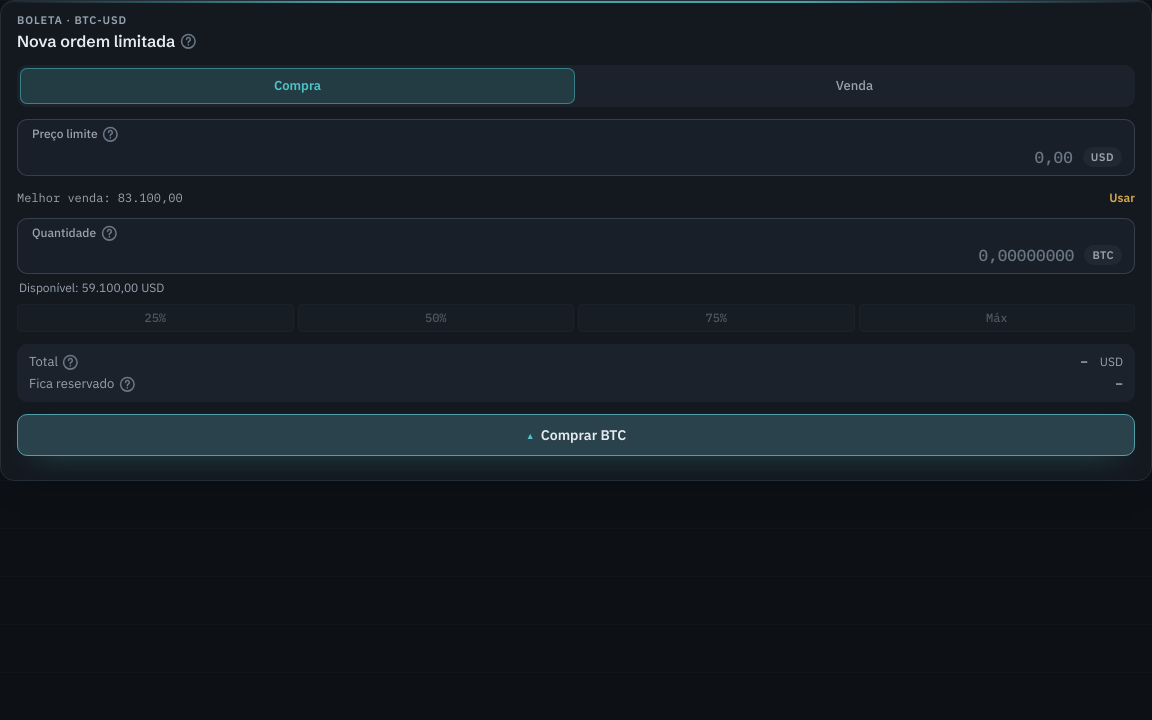
it: Order ticket › Should show the total, what stays reserved and the free balance for the chosen side
Type "83000,00" into the field labelled "Preço limite".
click(552, 157); type("83000,00")  # box [32, 145, 1073, 169]
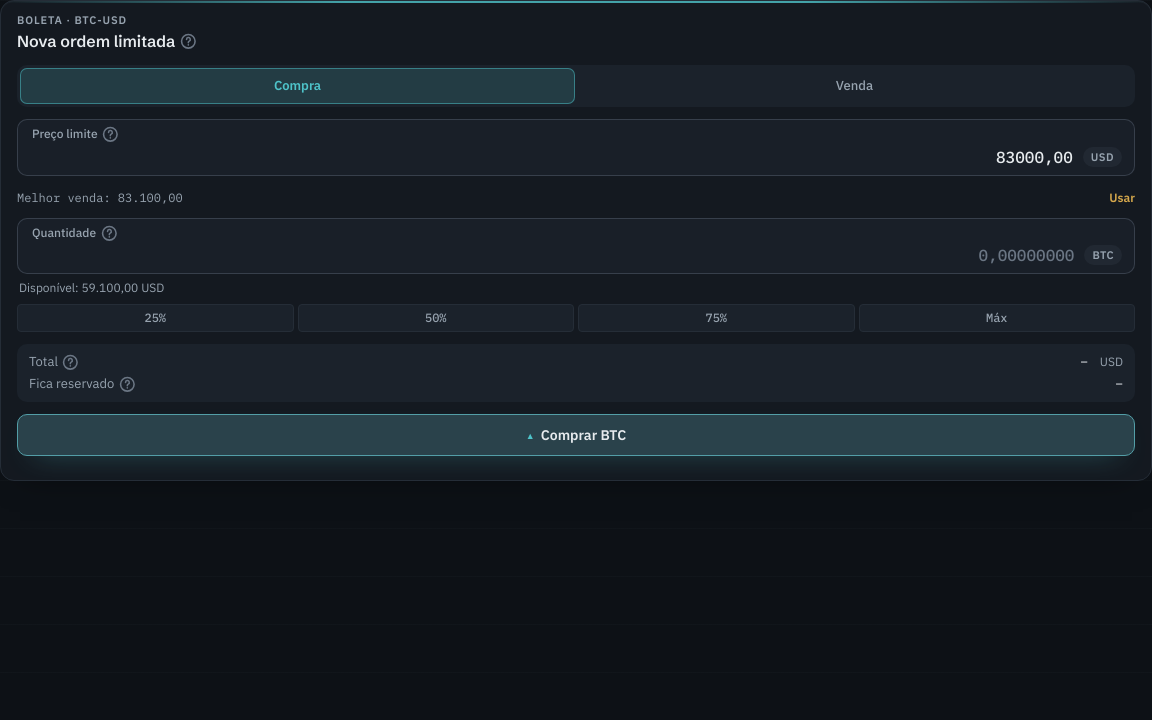
Type "0,5" into the field labelled "Quantidade".
click(553, 255); type("0,5")  # box [32, 243, 1074, 267]
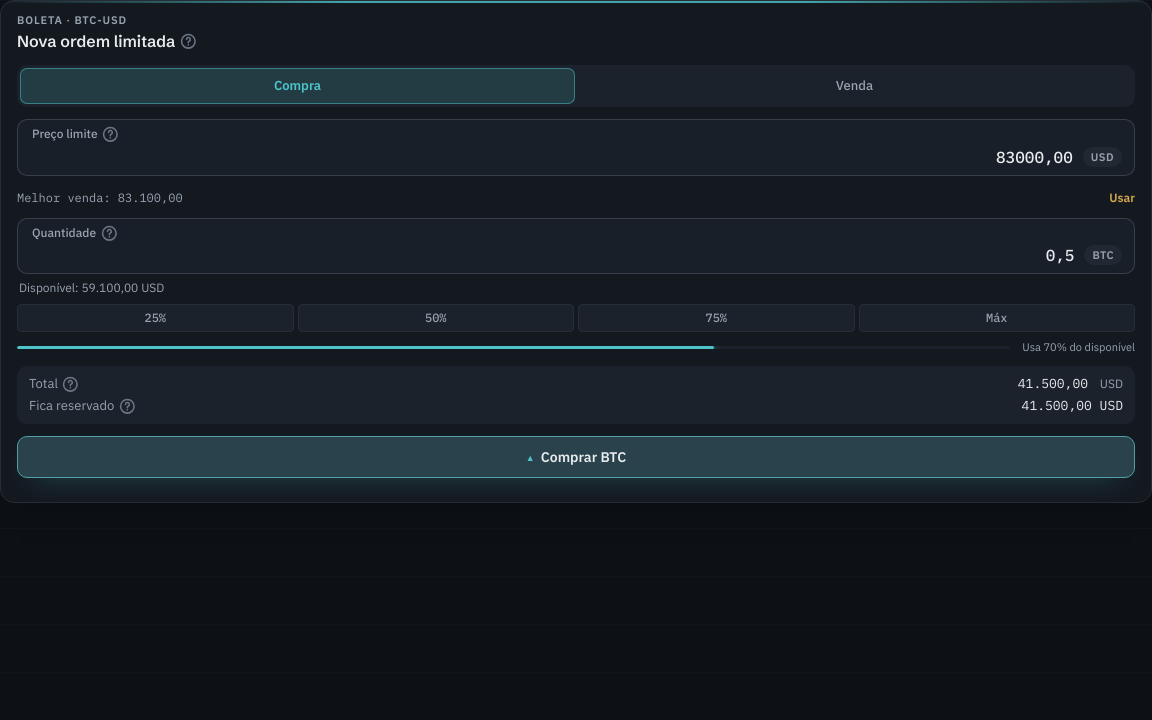
Expected: the text "Disponível: 59.100,00 USD" is shown, [19, 280, 164, 295]
Now the text "41.500,00 USD" is shown, box [1022, 396, 1123, 416]
Now the text "Usa 70% do disponível" is shown, box [1022, 340, 1135, 354]
Click the radio button labelled "Venda".
click(854, 86)  # box [577, 68, 1132, 104]
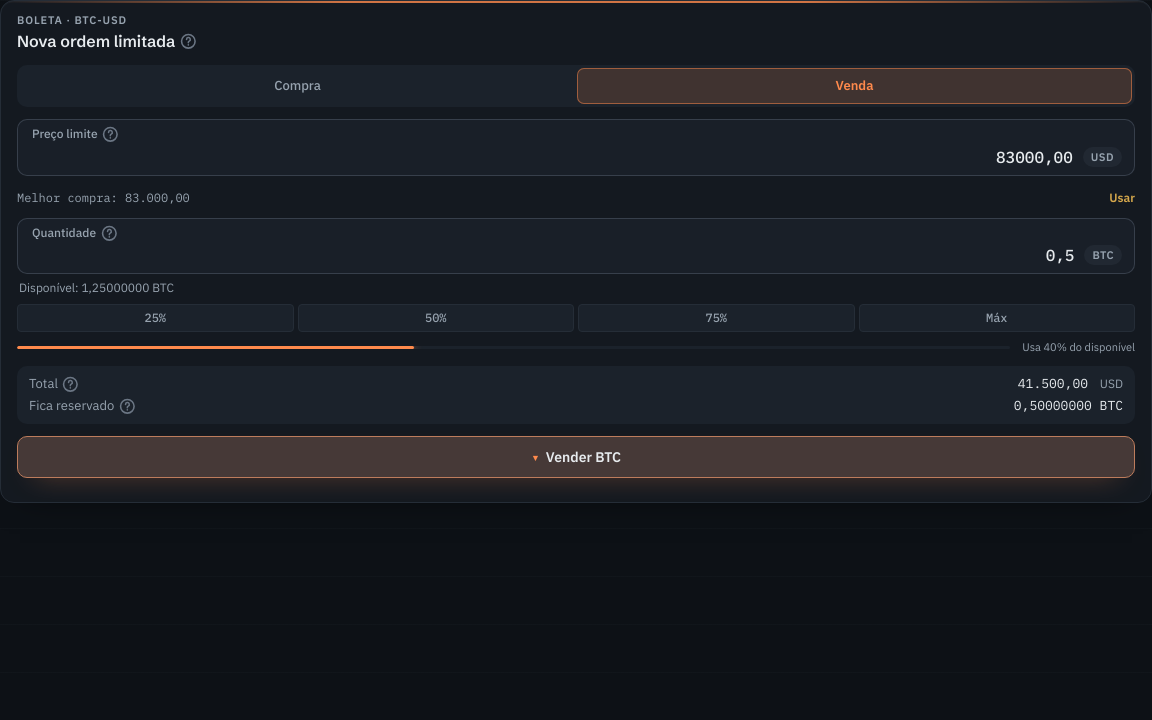
Now the text "0,50000000 BTC" is shown, box [1014, 396, 1123, 416]
Now the button "▼ Vender BTC" is shown, box [17, 436, 1135, 478]
Now the text "Melhor compra: 83.000,00" is shown, box [17, 190, 190, 206]
